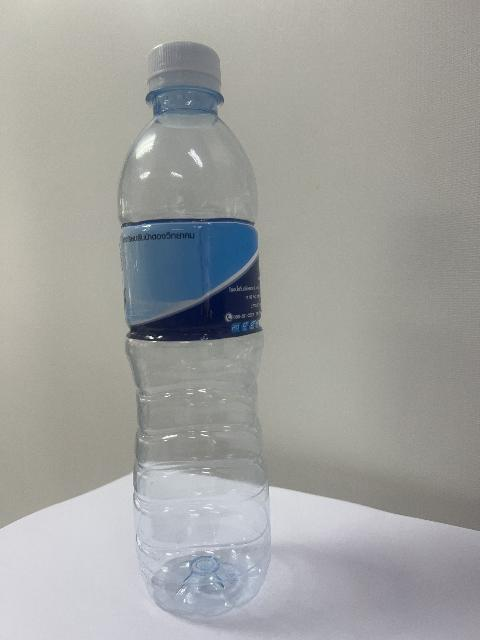bottle: (119, 42, 270, 619)
